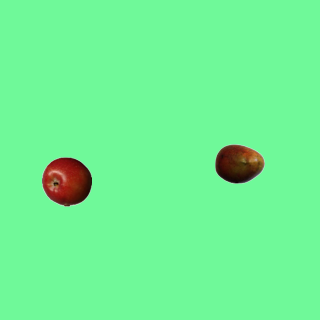Apple Braeburn: (41, 156, 91, 206)
Mango Red: (214, 138, 264, 188)
